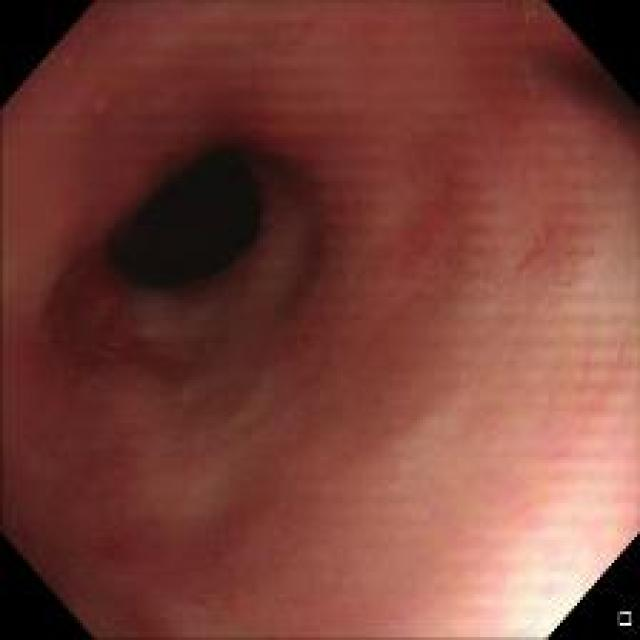contrast: (99, 134, 268, 308)
saturation: (469, 525, 622, 634)
